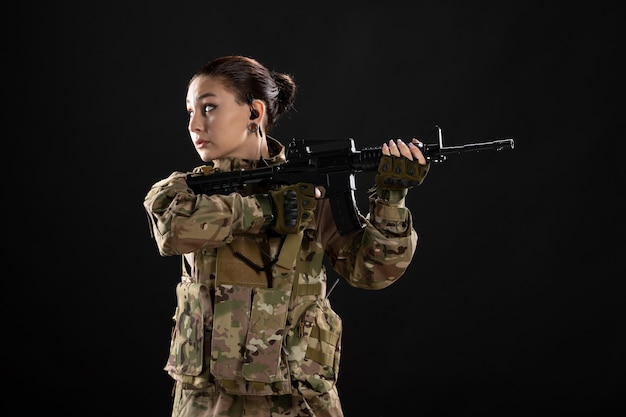gun: (186, 125, 516, 242)
